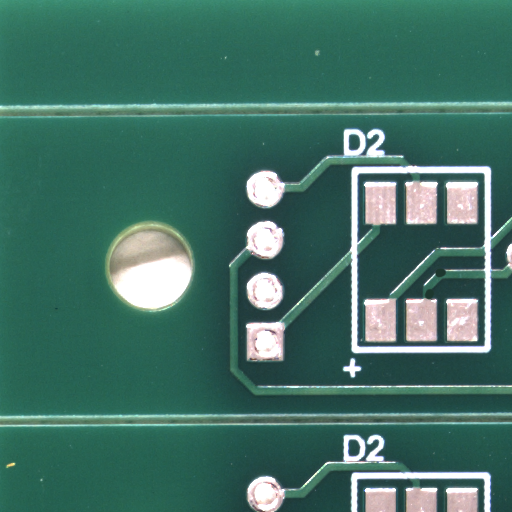Mouse_bite: (441, 272, 452, 283), (429, 294, 438, 303)
